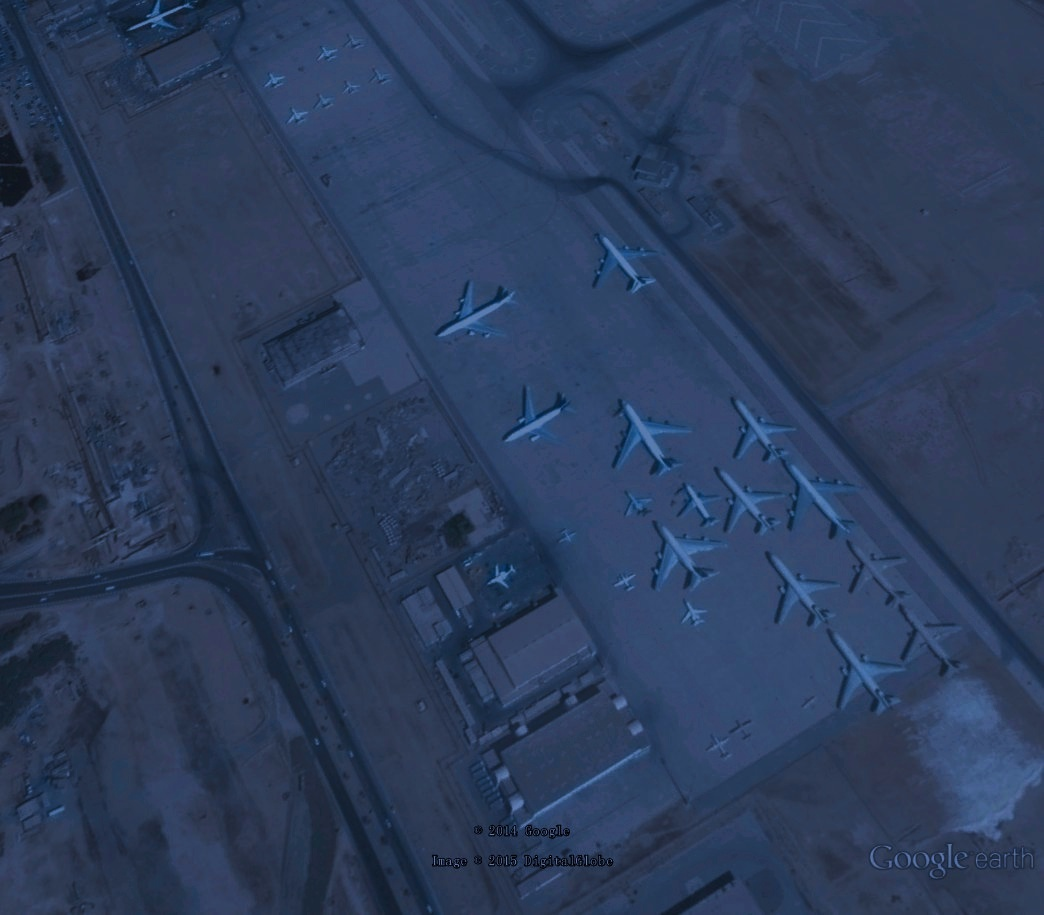aircraft: (825, 624, 912, 717), (778, 456, 870, 542), (610, 396, 696, 479), (763, 546, 846, 632), (710, 465, 797, 540), (431, 278, 528, 343), (649, 520, 732, 595), (499, 382, 585, 453), (897, 603, 971, 680), (844, 536, 919, 611), (726, 395, 802, 467), (590, 228, 666, 298), (123, 2, 204, 36), (675, 480, 726, 529), (482, 562, 522, 594), (679, 598, 711, 631), (624, 488, 655, 521), (707, 733, 738, 764), (366, 65, 395, 90), (613, 570, 641, 595), (730, 719, 757, 744), (285, 105, 312, 128), (262, 71, 289, 93), (342, 31, 369, 53), (316, 44, 341, 65), (314, 91, 337, 112), (341, 78, 364, 98), (557, 526, 577, 548), (800, 695, 819, 713)
